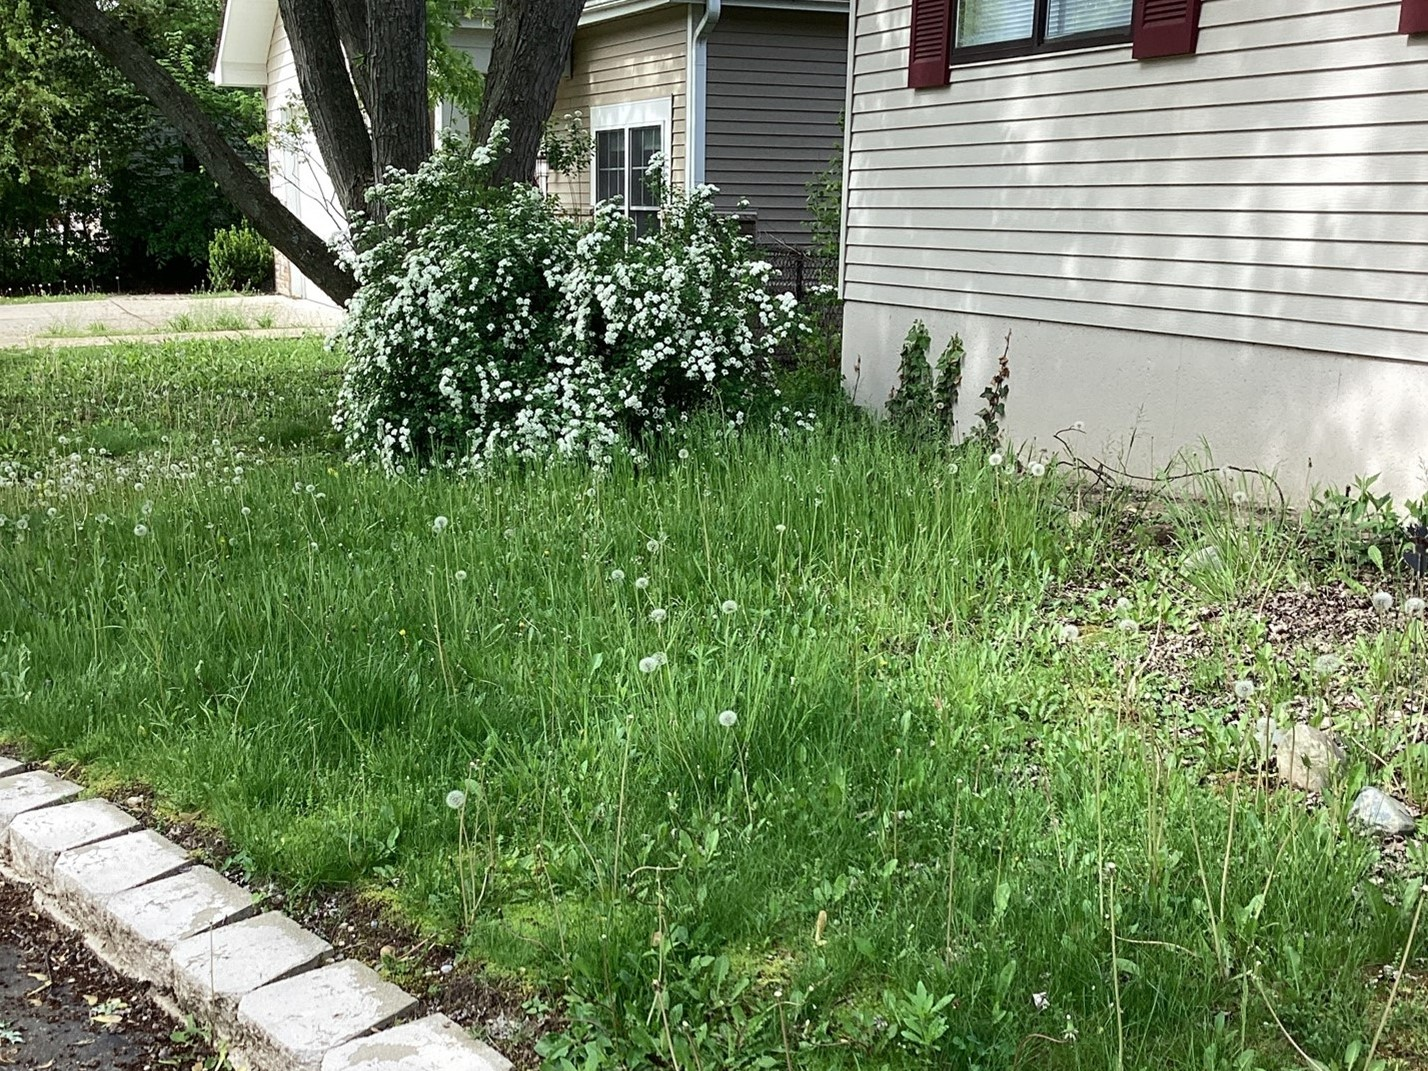grass: (39, 472, 1415, 1050)
